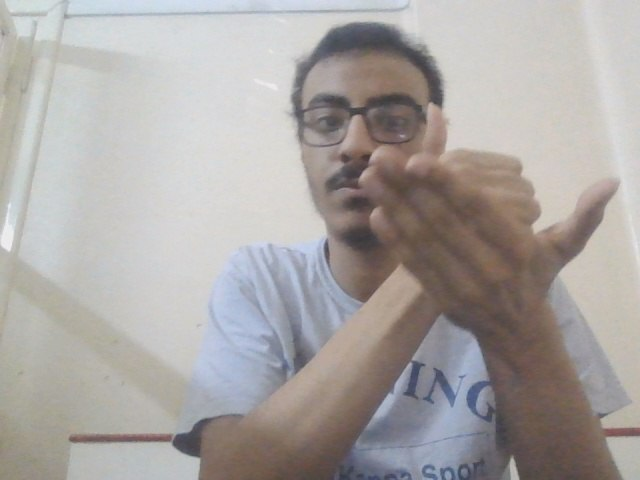Help: (359, 99, 626, 333)
